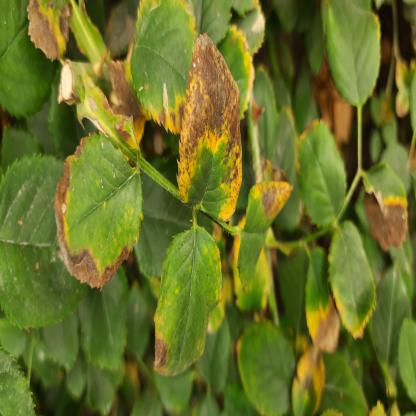black-spot: (54, 128, 143, 290), (177, 32, 244, 215), (154, 224, 222, 381), (128, 1, 197, 128), (238, 155, 294, 294), (232, 307, 298, 406), (330, 222, 384, 339), (295, 116, 345, 225), (365, 155, 413, 247), (306, 236, 338, 354), (293, 343, 333, 412)
